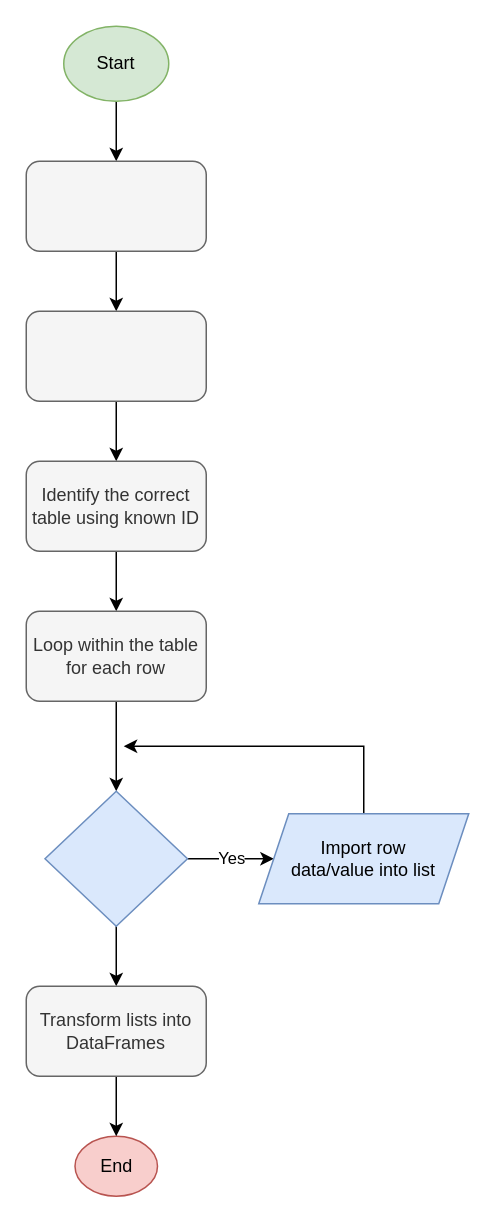
The diagram is 495 pixels wide and 1223 high, and some of its shapes have lost their labels. Here are the shapes that lost their labels. From the top down, the box of each, then its label:
(25, 160, 206, 251): Obtain the html file directly from URL
(25, 310, 206, 401): Parse the html and import using BeautifulSoup
(44, 790, 188, 926): Is there a new row?
